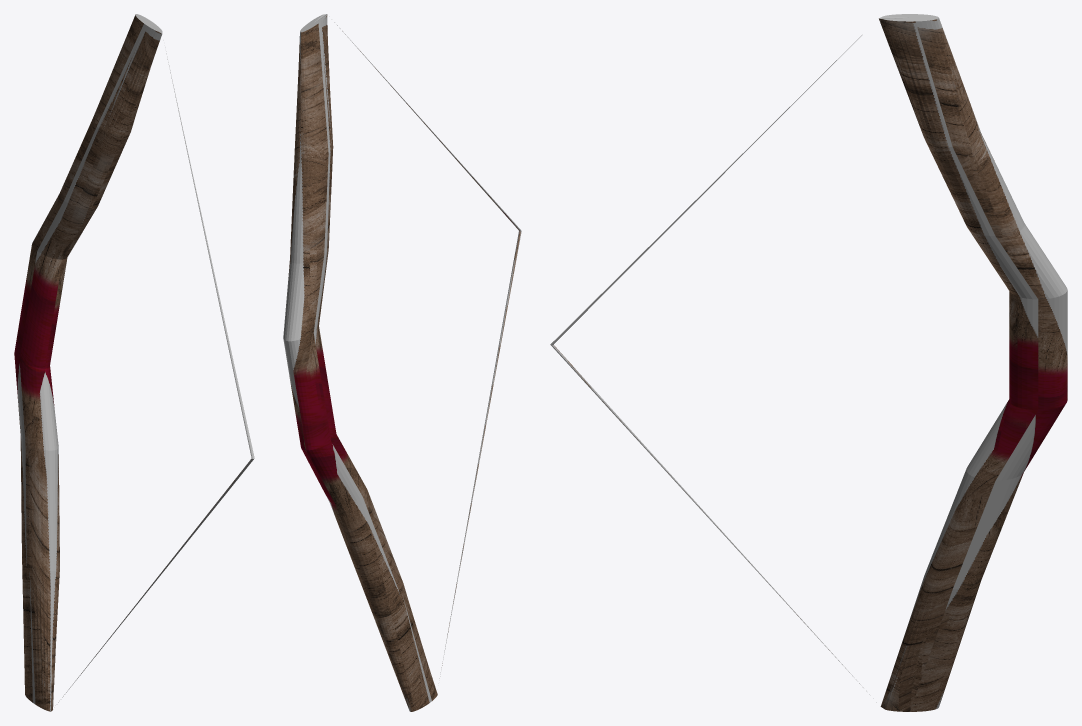
The model's file is Protagonista111.obj.
The picture shows the model from 3 angles, left to right: view 1: azimuth 30°, elevation 25°; view 2: azimuth 150°, elevation 25°; view 3: azimuth 270°, elevation 25°; orthographic projection. The views are drawn at different scales.
Visible parts, largest first — view 1: Cilindro; view 2: Cilindro; view 3: Cilindro.
Boxes of the visible parts, x1=… form: Cilindro: x1=14, y1=14, x2=254, y2=711; Cilindro: x1=283, y1=14, x2=521, y2=711; Cilindro: x1=550, y1=14, x2=1067, y2=711.
Bounding box in the file's own units: 0.1877 × 0.9705 × 0.6036.
Materials: 1 (1 with a texture image).
